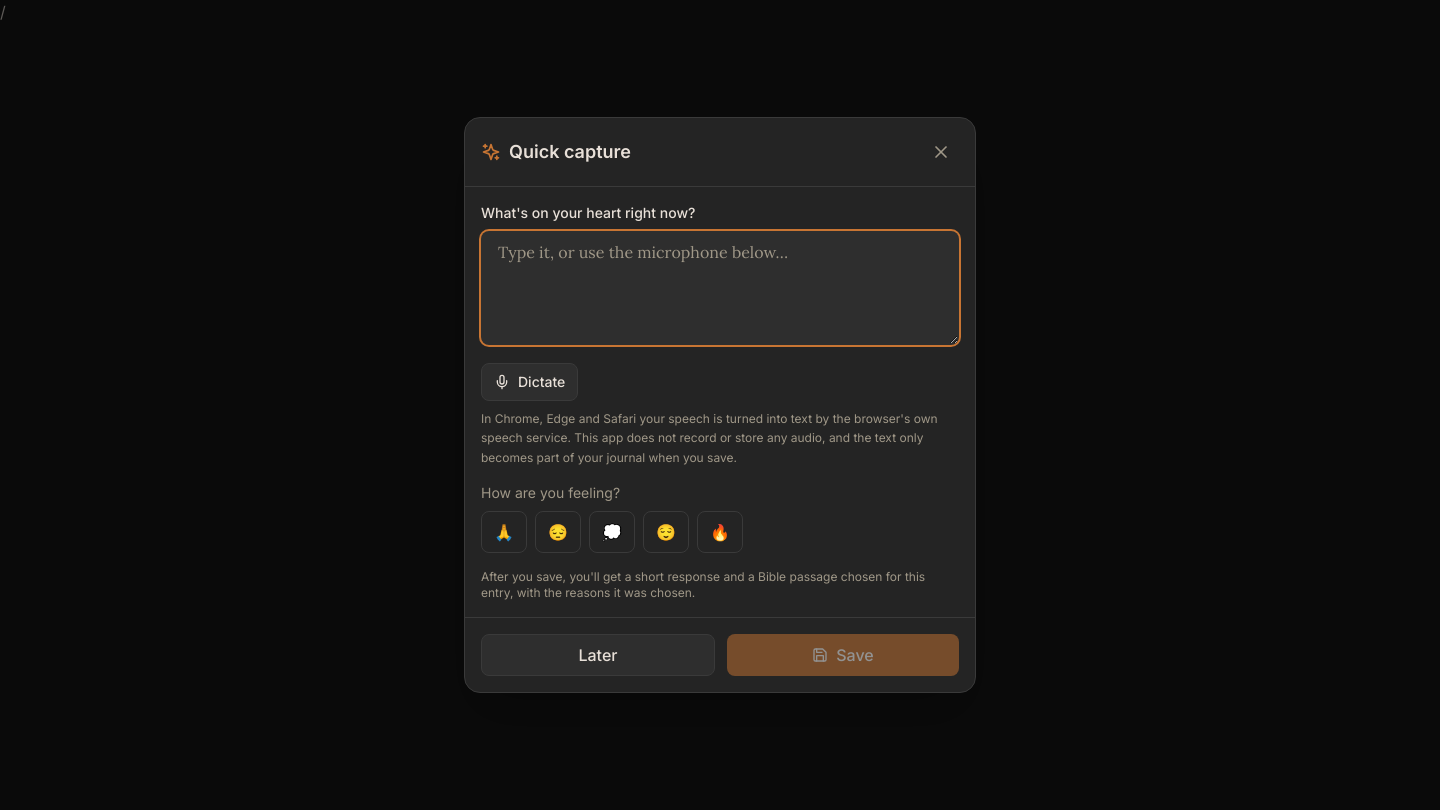
it: QuickCaptureModal › shows the error and keeps the text when saving fails
This screenshot has width=1440, height=810.
Type "A hard day" into the text box labelled "What's on your heart right now?" at (720, 288), box x1=481 y1=231 x2=959 y2=345
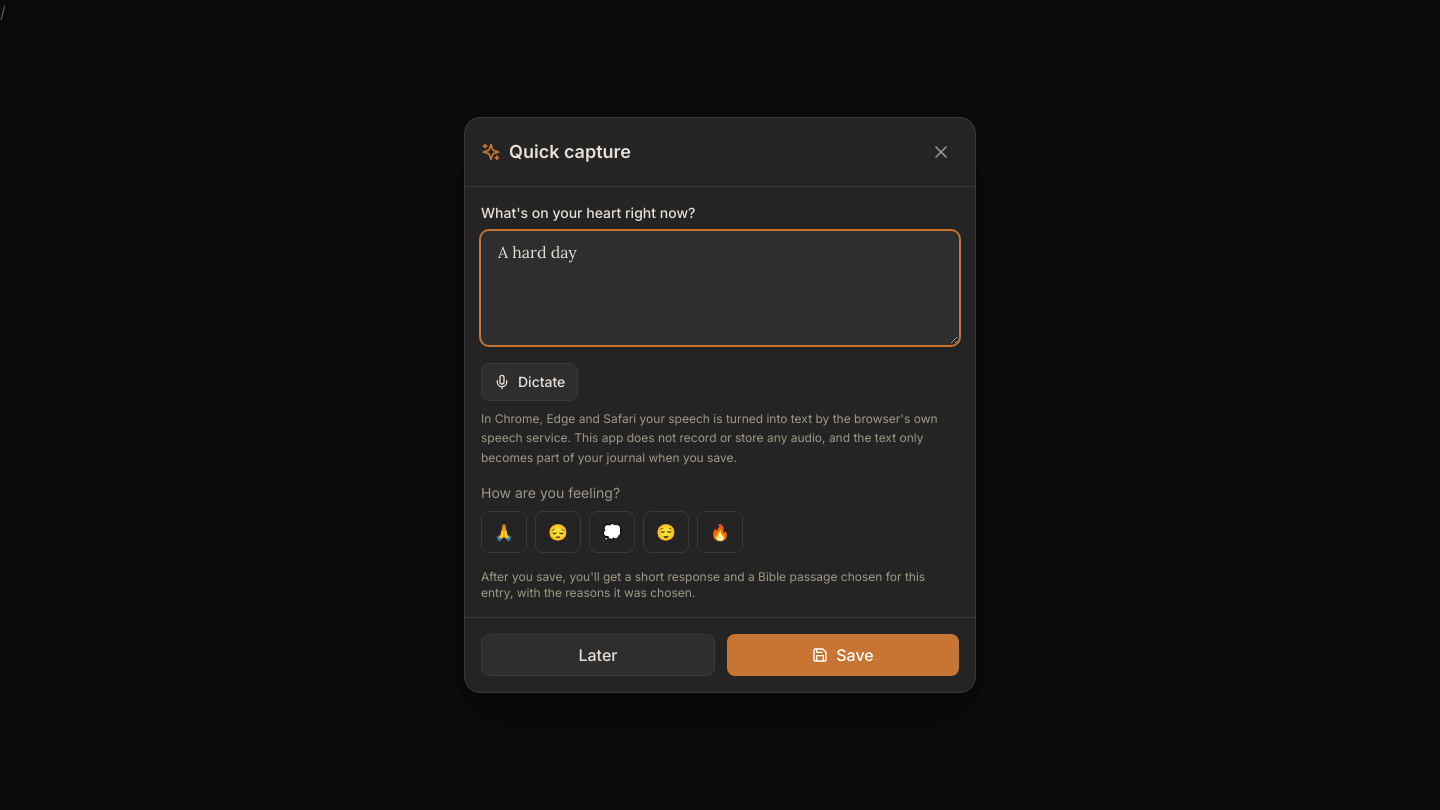
Click the button "Save" at (843, 655), box x1=727 y1=634 x2=959 y2=676
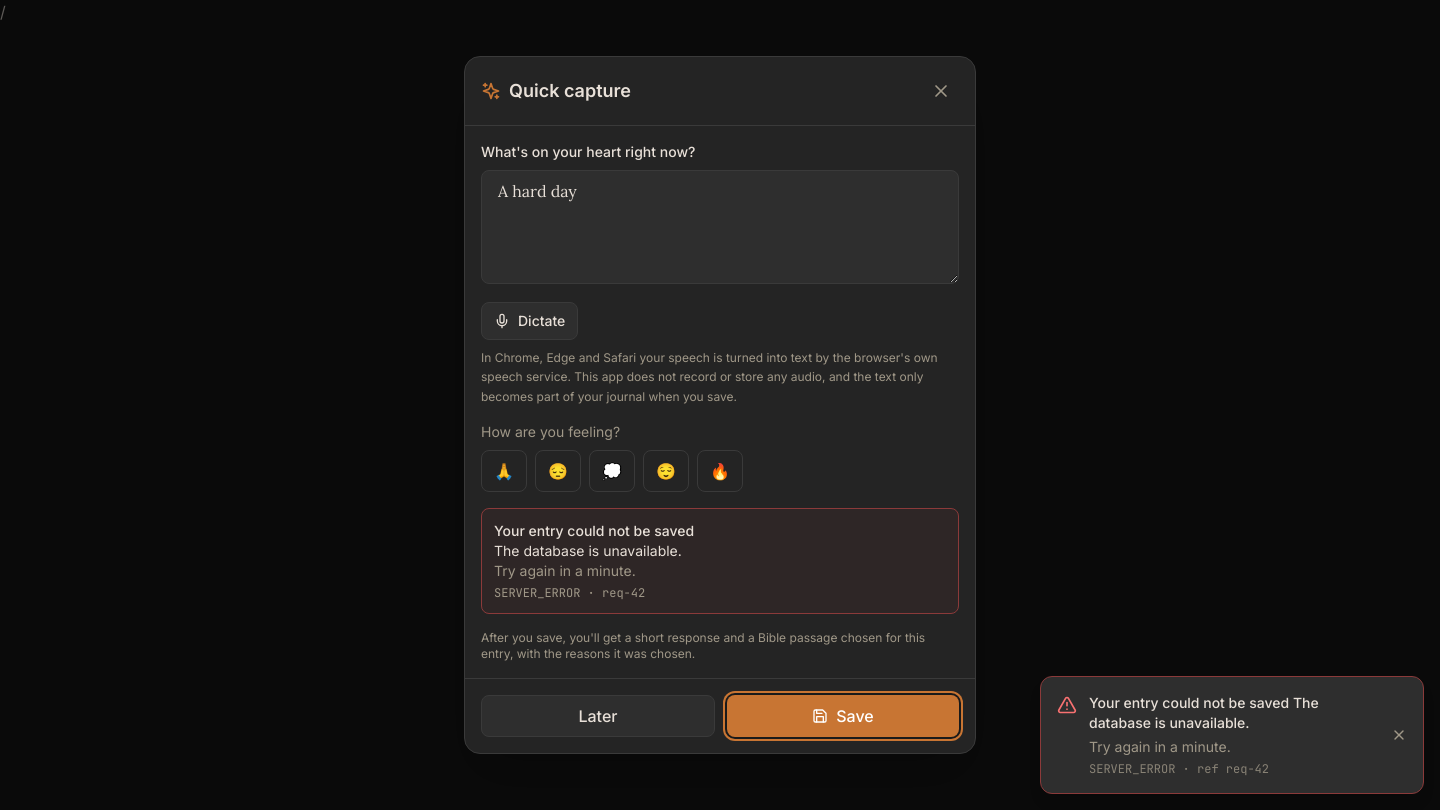
Expected: the text with test id "location" reads "/", x1=0 y1=2 x2=6 y2=22
Result: the text "The database is unavailable." is shown at x1=494 y1=542 x2=682 y2=559
Result: the text "SERVER_ERROR · req-42" is shown at x1=494 y1=585 x2=645 y2=601
